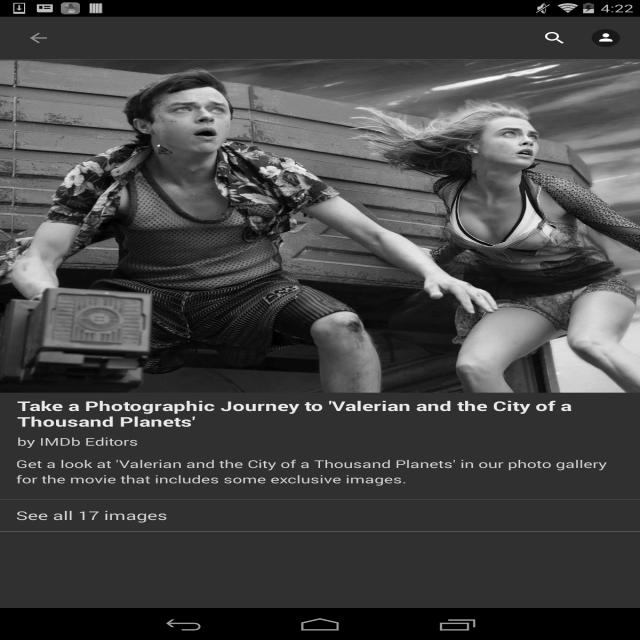ImageButton: (9, 17, 68, 59)
ImageView: (0, 59, 640, 393)
TextView: (0, 393, 640, 430), (16, 457, 624, 489), (0, 430, 640, 449), (16, 507, 185, 523), (580, 22, 632, 54), (529, 22, 580, 54)
